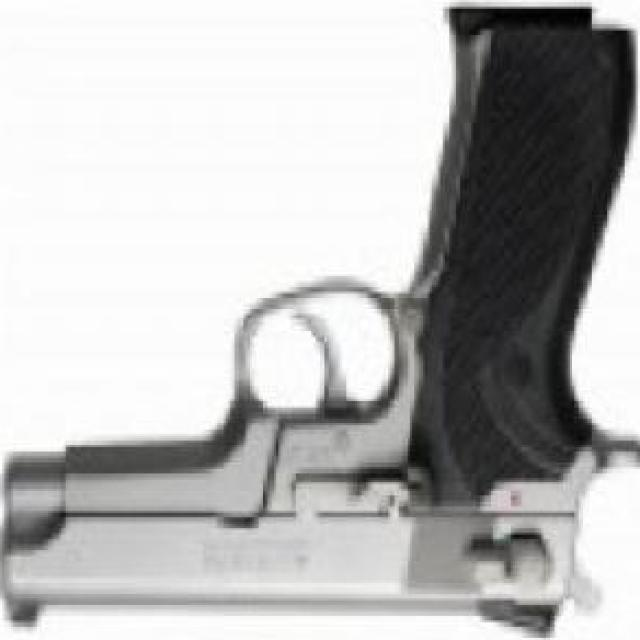pistol: (13, 13, 640, 638)
